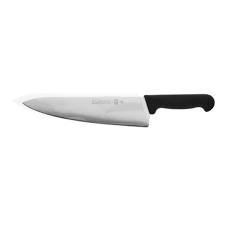Knife: (20, 93, 214, 127)
